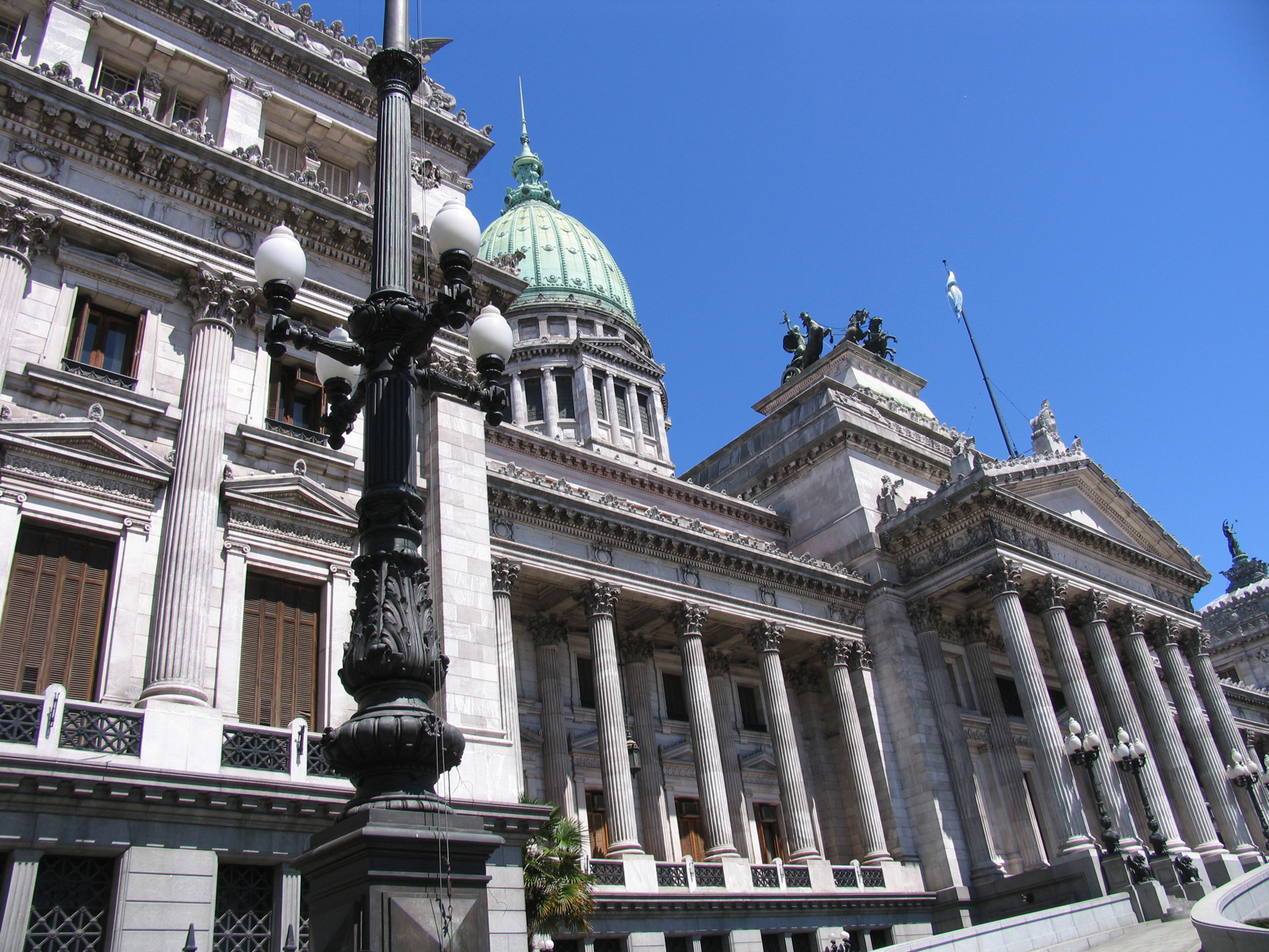fachada: (5, 0, 1269, 912)
poste: (270, 0, 521, 952)
